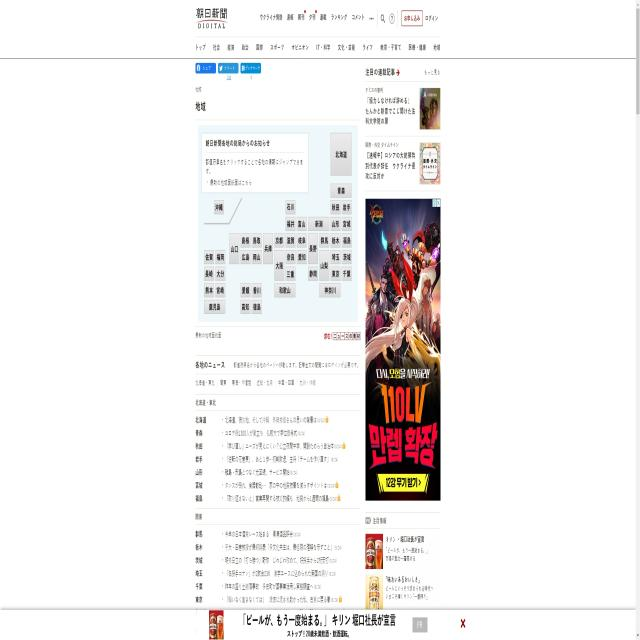menu-bar: (256, 3, 438, 30)
side-panel: (365, 67, 443, 192)
tab-bar: (195, 42, 444, 55)
